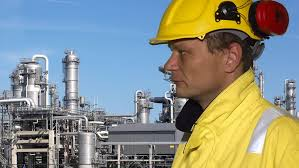Person_wearing_helmet: (149, 0, 270, 63)
